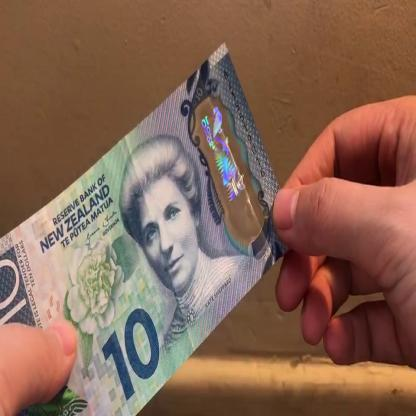10B: (198, 104, 250, 209)
